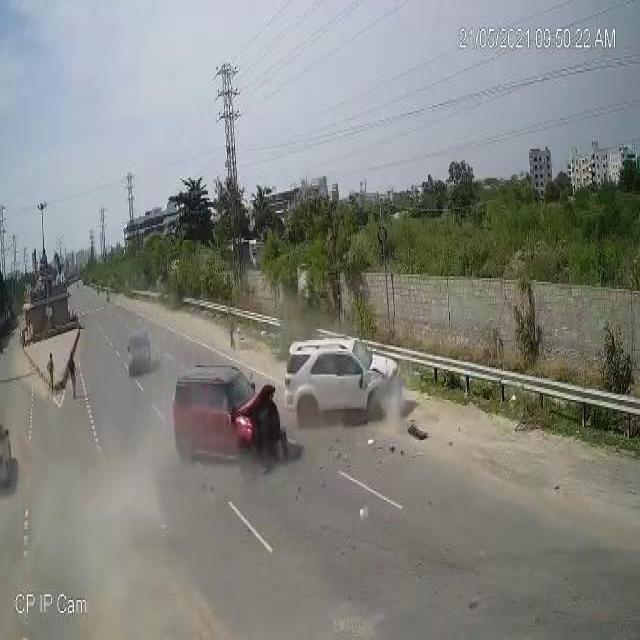accident: (160, 313, 433, 489)
